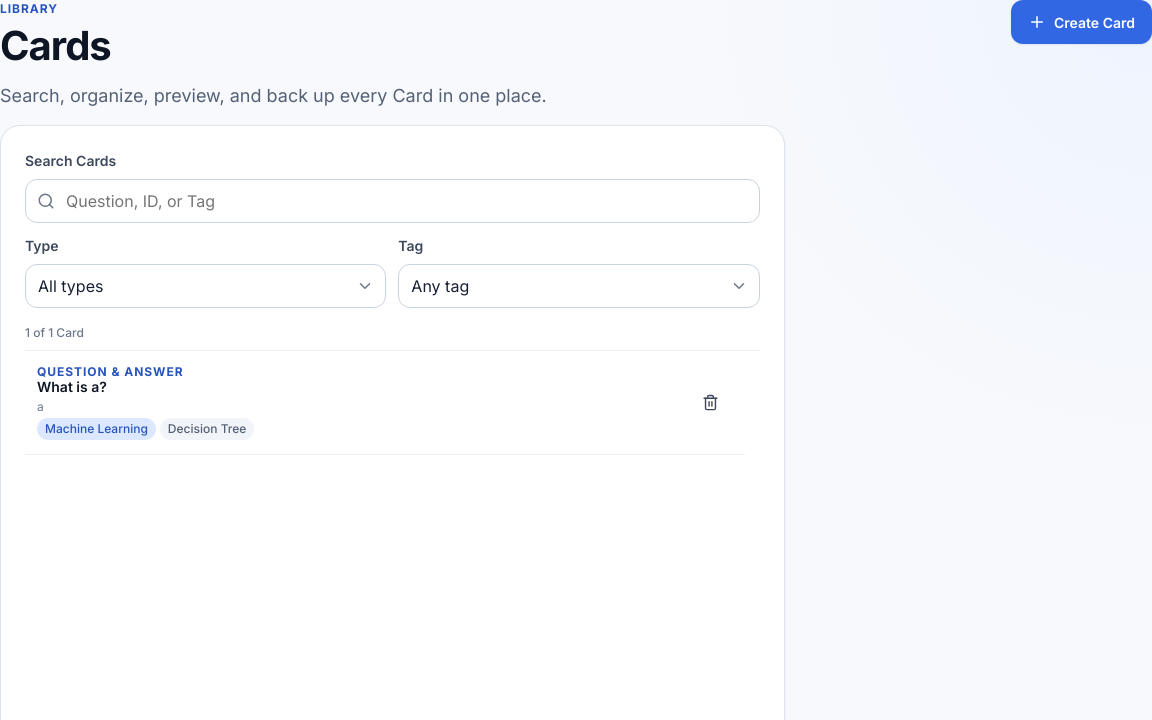
Test: the formula fields are text areas with the control style; Read aloud, Example and LaTeX say they are optional
Click the button "Create Card".
click(1082, 22)  # box [1011,0,1151,44]
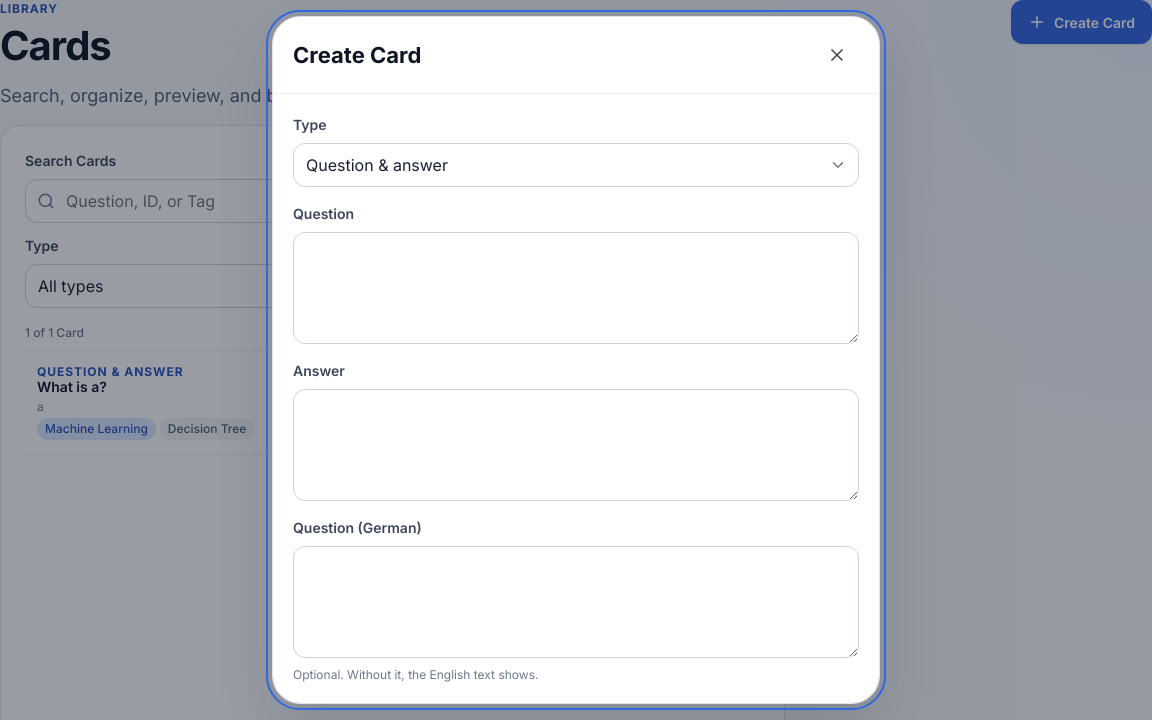
Select "Formula" in the dropdown labelled "Type" at (576, 165), box [293,143,859,187]
(page scrolled)
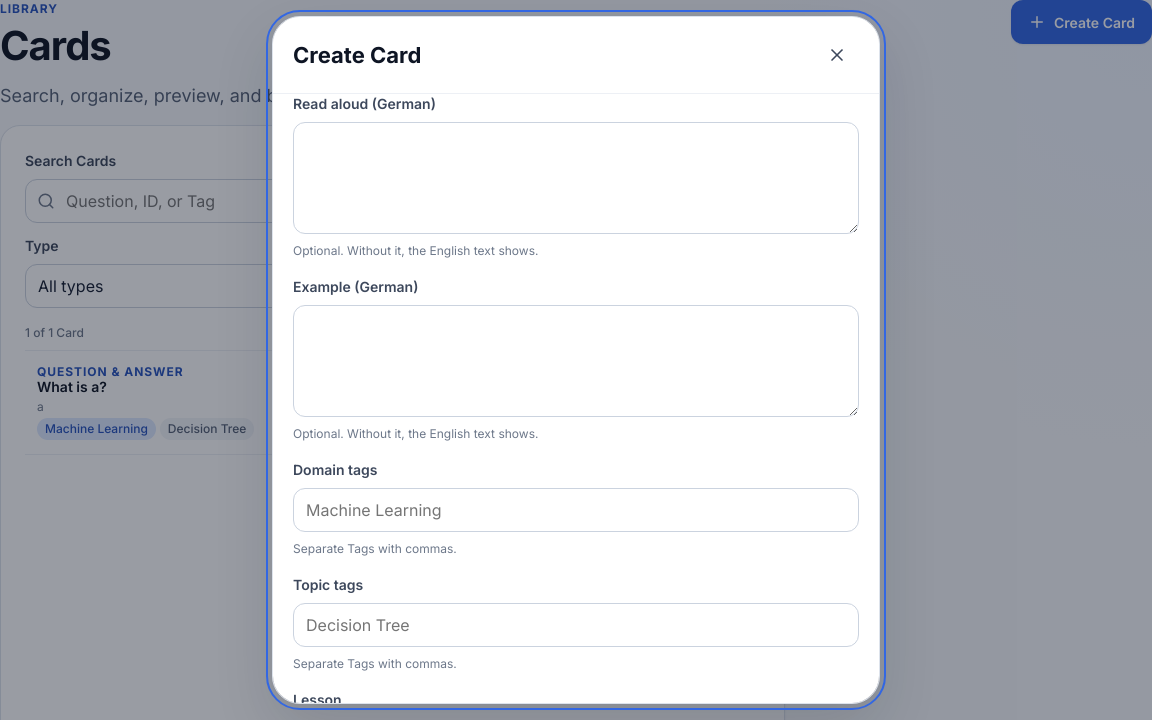
expect the element labelled "Read aloud (German)" is shown: met, box [293,93,859,260]
expect the element labelled "Example (German)" is shown: met, box [293,276,859,443]
